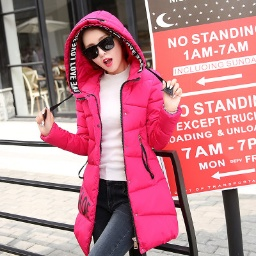face: (76, 26, 127, 75)
